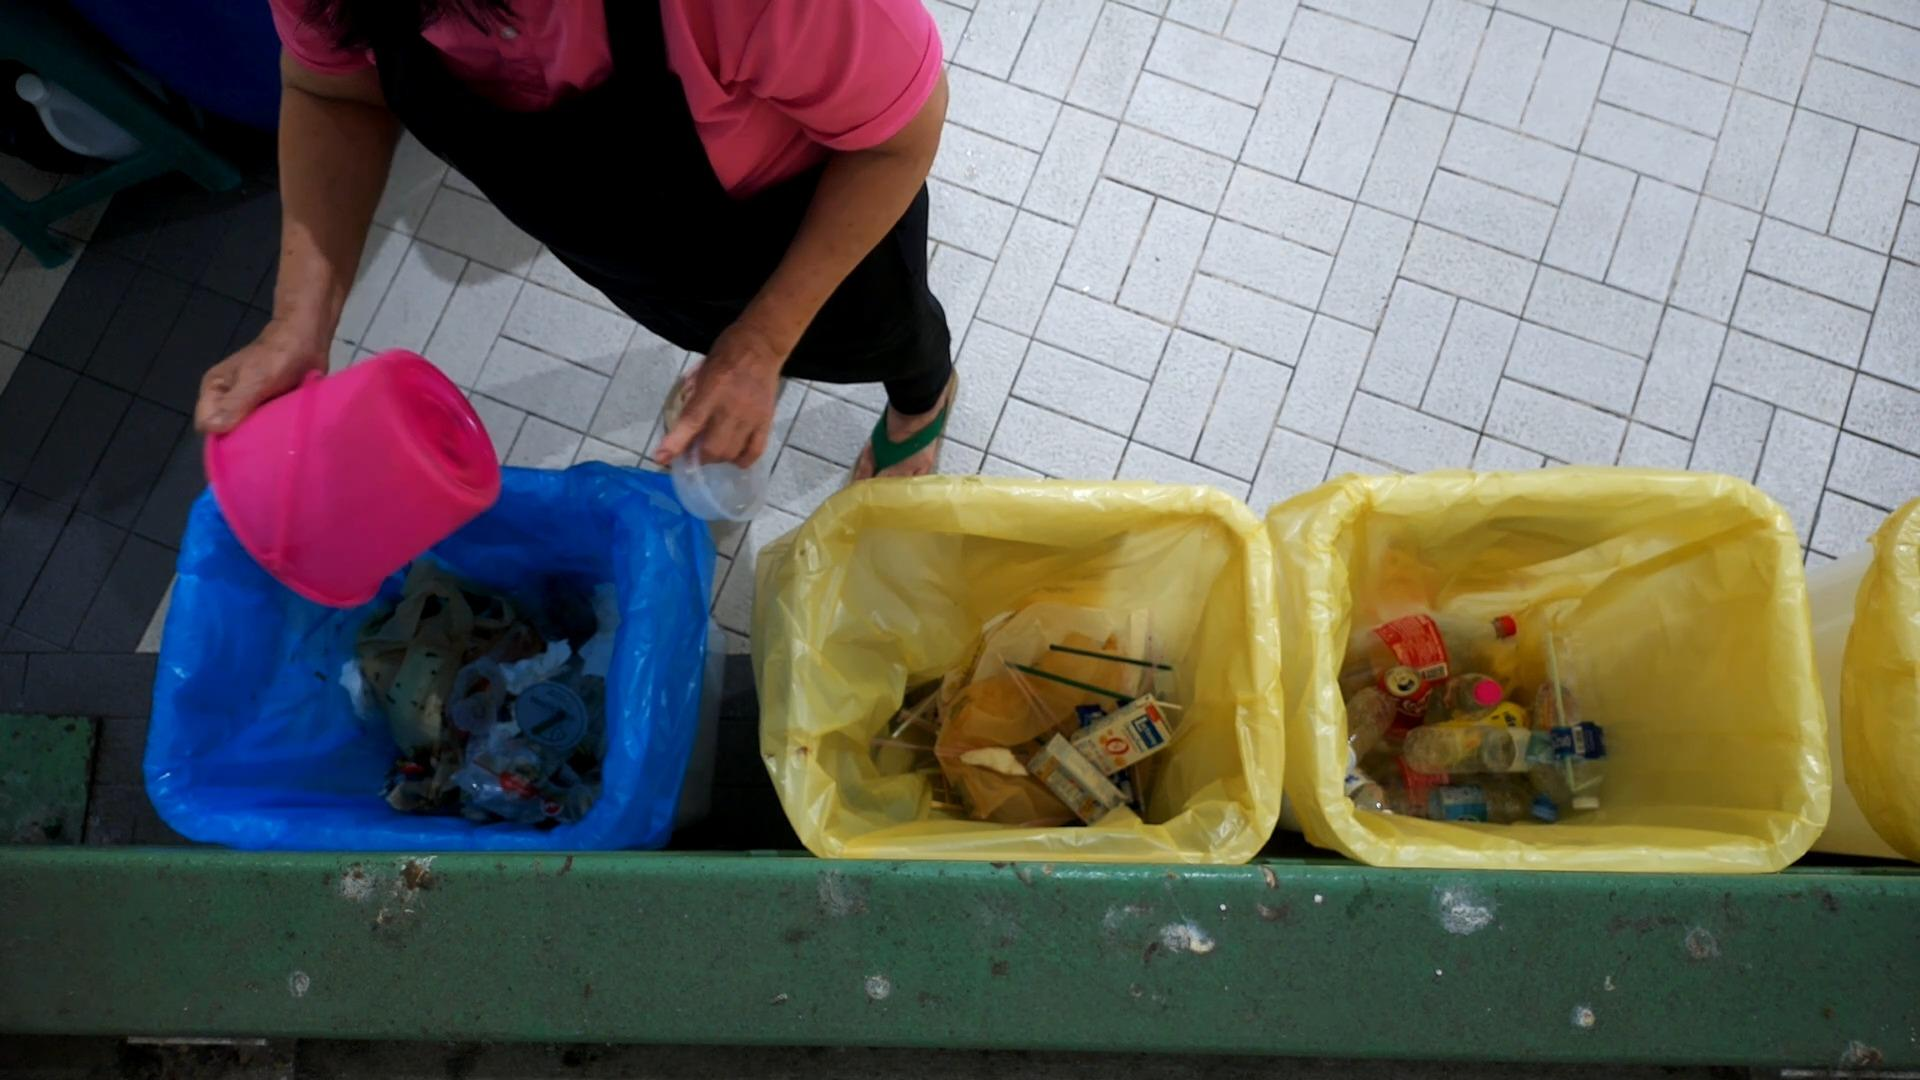can: (1381, 658, 1439, 742)
filled plastic bag: (355, 556, 513, 748), (458, 729, 589, 820)
milk carton: (1069, 683, 1179, 782), (1026, 731, 1127, 823)
plastic bag: (963, 596, 1154, 695)
plastic bottle: (1340, 600, 1522, 683), (1548, 628, 1618, 812), (1399, 721, 1553, 775), (1395, 782, 1569, 822), (1341, 682, 1398, 764), (1436, 666, 1506, 728)
plastic cup: (658, 423, 781, 527), (510, 669, 601, 756)
straw: (1544, 630, 1604, 794), (1011, 658, 1156, 703), (890, 666, 965, 736), (1000, 661, 1060, 729), (1046, 640, 1174, 671), (872, 735, 972, 752), (527, 707, 568, 740), (1153, 698, 1183, 711)
tissue paper: (384, 750, 464, 814), (496, 636, 575, 698), (575, 580, 624, 676), (955, 741, 1031, 773)
